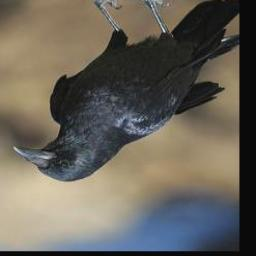Crow: (8, 0, 238, 184)
